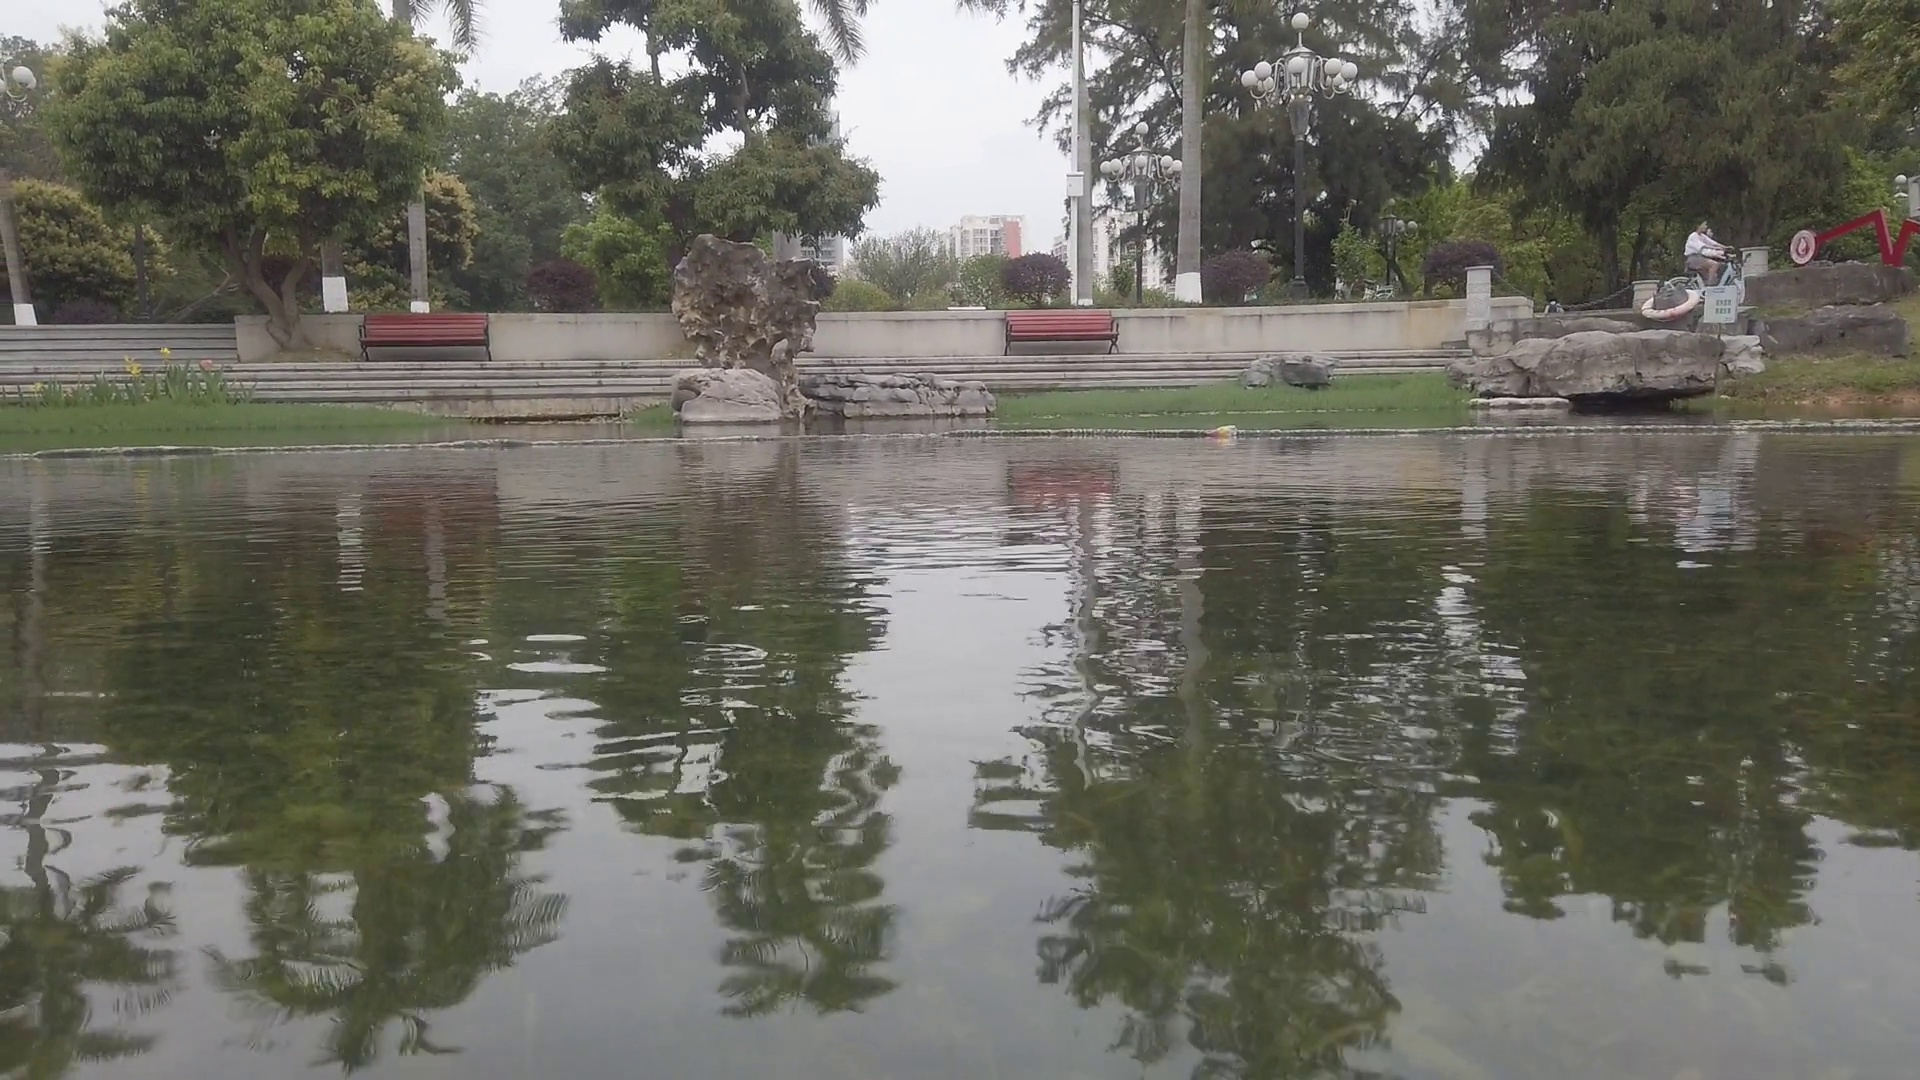bottle: (1203, 425, 1237, 436)
